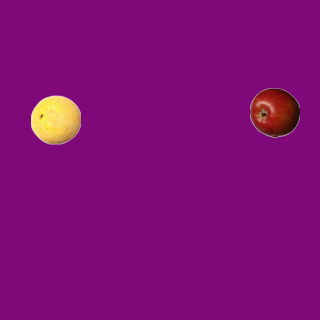Apple Braeburn: (249, 87, 299, 137)
Cantaloupe 1: (30, 94, 80, 144)
